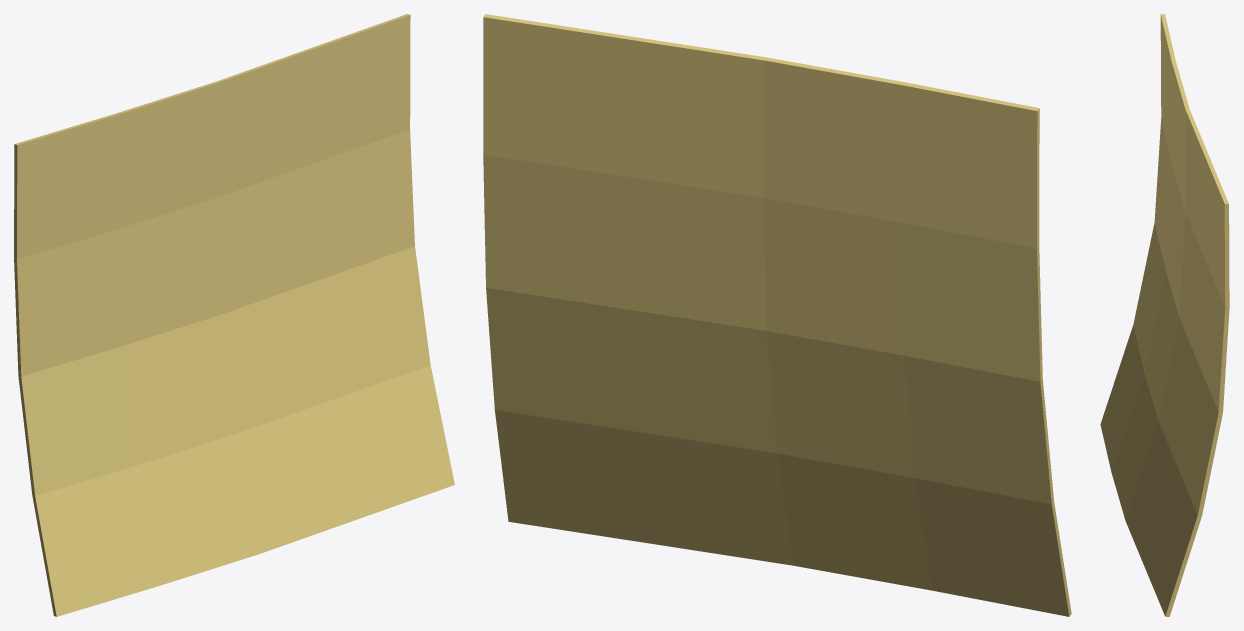
Rendered from Lap3.fbx.
The picture shows the model from 3 angles, left to right: view 1: azimuth 30°, elevation 25°; view 2: azimuth 150°, elevation 25°; view 3: azimuth 270°, elevation 25°; orthographic projection. The views are drawn at different scales.
Parts seen in each view (by area): view 1: Lap.002; view 2: Lap.002; view 3: Lap.002.
Part boxes in pixels (x1=…): Lap.002: x1=14, y1=14, x2=454, y2=616; Lap.002: x1=483, y1=14, x2=1071, y2=616; Lap.002: x1=1100, y1=14, x2=1229, y2=616.
Size of the model in its own units: 13.7 by 13.35 by 3.83.
